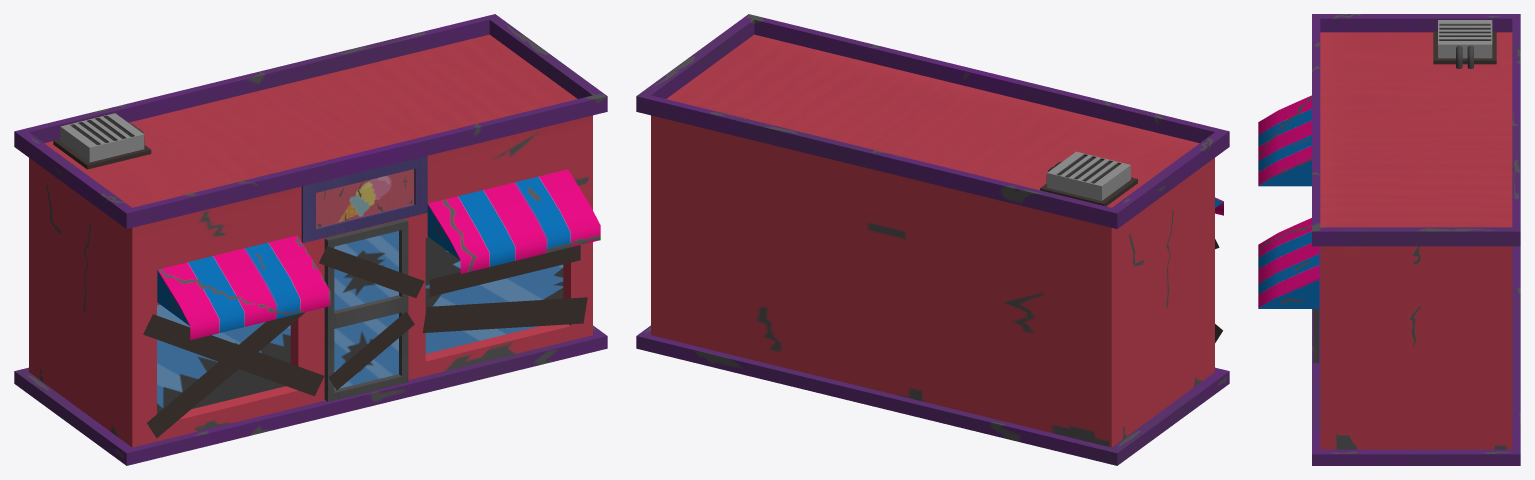
The model's file is Edificio1Rosa.fbx.
3 views of the same model, side by side, from view 1: azimuth 30°, elevation 25°; view 2: azimuth 150°, elevation 25°; view 3: azimuth 270°, elevation 25° (orthographic). The views are drawn at different scales.
Parts seen in each view (by area): view 1: polySurface4; view 2: polySurface4; view 3: polySurface4.
Boxes of the visible parts, x1,y1,x2,y2 form: polySurface4: [14, 14, 607, 465]; polySurface4: [636, 14, 1229, 465]; polySurface4: [1258, 14, 1520, 465].
Size of the model in its own units: 13.95 by 7.23 by 7.1.
1 material, 1 textured.
